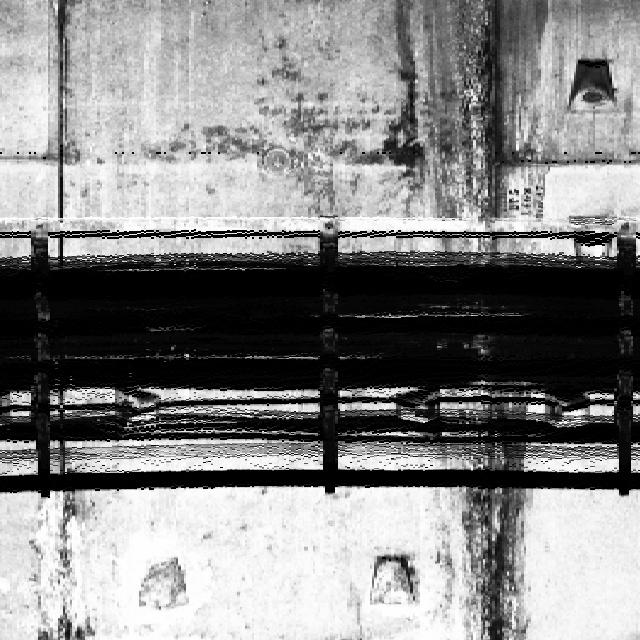leakage: (395, 0, 558, 266), (437, 393, 537, 639)
